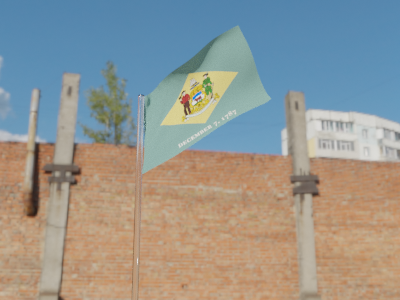Delaware flag: (141, 25, 272, 175)
